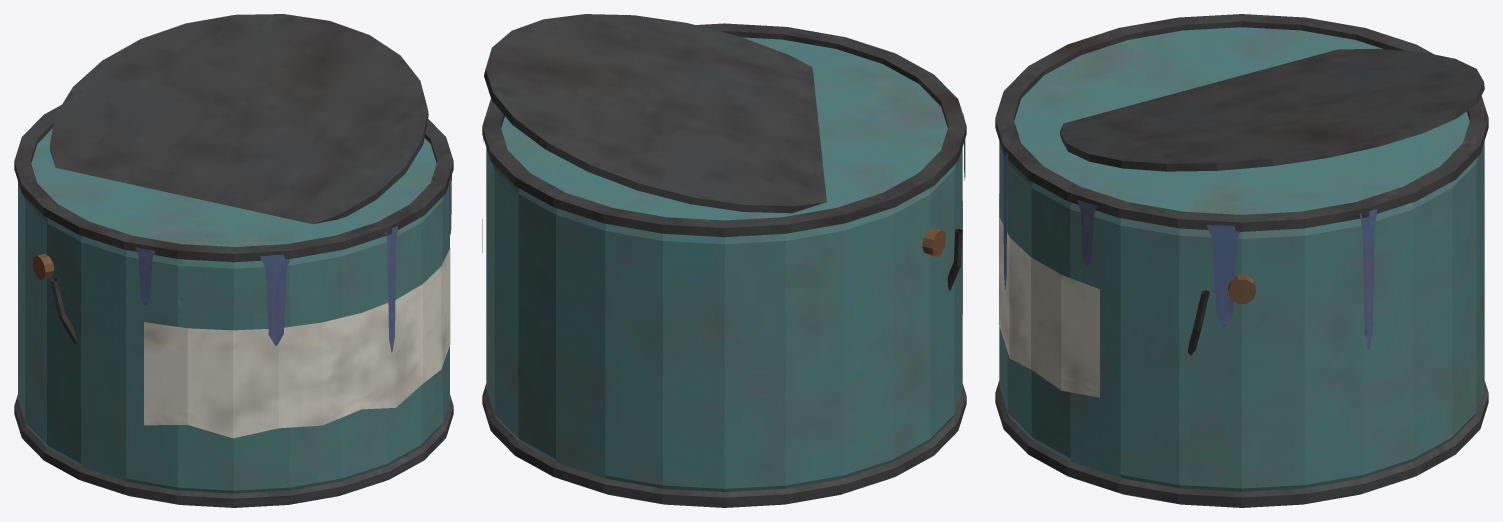
Rendered from D21_paint_cans_v2.glb.
3 views of the same model, side by side, from view 1: azimuth 30°, elevation 25°; view 2: azimuth 150°, elevation 25°; view 3: azimuth 270°, elevation 25° (orthographic). The views are drawn at different scales.
Parts seen in each view (by area): view 1: Dented tin body; view 2: Dented tin body; view 3: Dented tin body.
Boxes of the visible parts, left/top/right/bottom form: Dented tin body: left=14, top=14, right=453, bottom=507; Dented tin body: left=482, top=14, right=966, bottom=507; Dented tin body: left=995, top=14, right=1488, bottom=507.
Size of the model in its own units: 0.3 by 0.2264 by 0.2855.
Materials: 6 (6 with a texture image).
